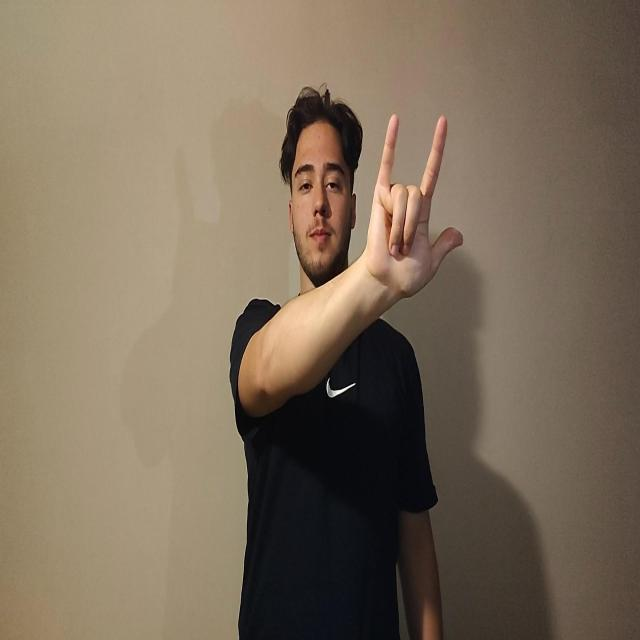iloveyou: (364, 111, 464, 304)
